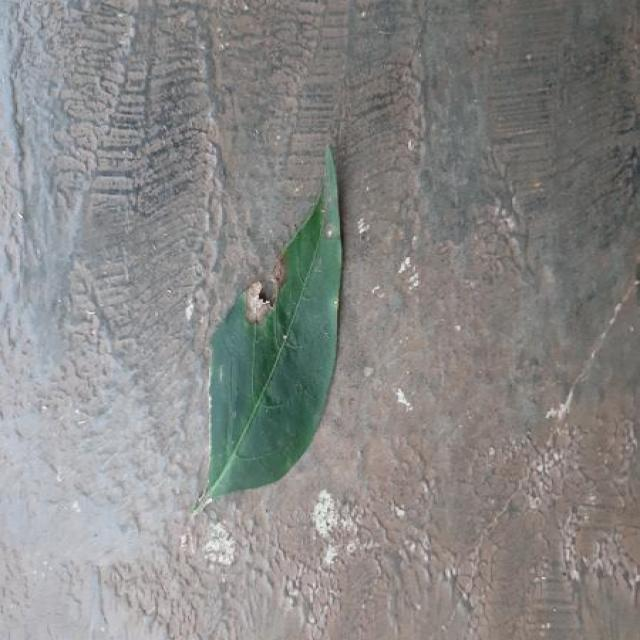leaf curl: (195, 149, 342, 511)
